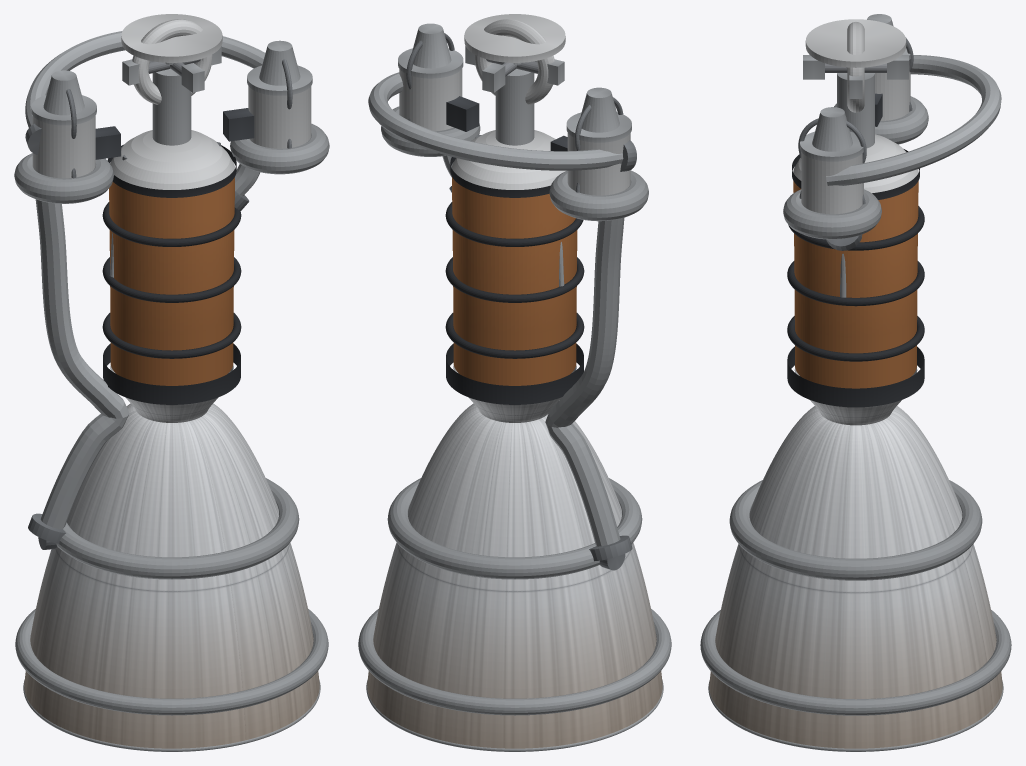
Rendered from raptor_engine.obj.
The picture shows the model from 3 angles, left to right: view 1: azimuth 30°, elevation 25°; view 2: azimuth 150°, elevation 25°; view 3: azimuth 270°, elevation 25°; orthographic projection.
Bounding box in the file's own units: 1.3 × 3.1 × 1.27.
1 material, 1 textured.
